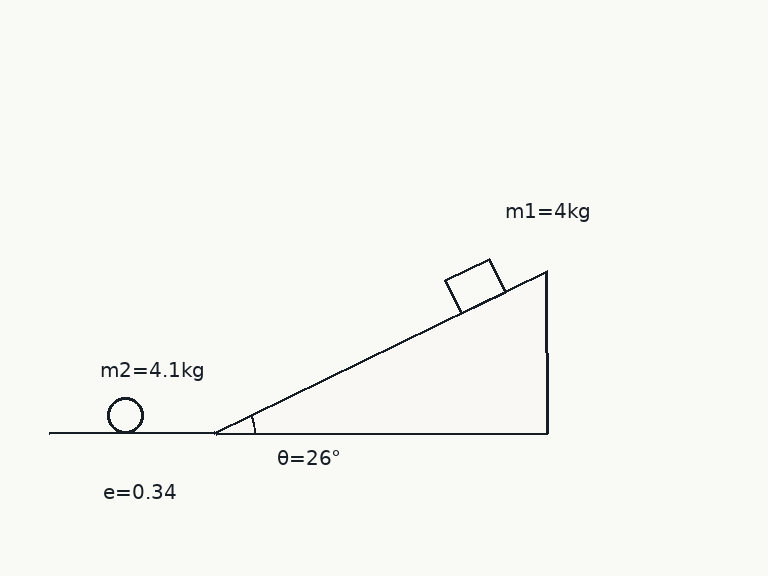ball: (105, 395, 145, 435)
block: (443, 258, 507, 315)
ramp: (213, 269, 549, 435)
